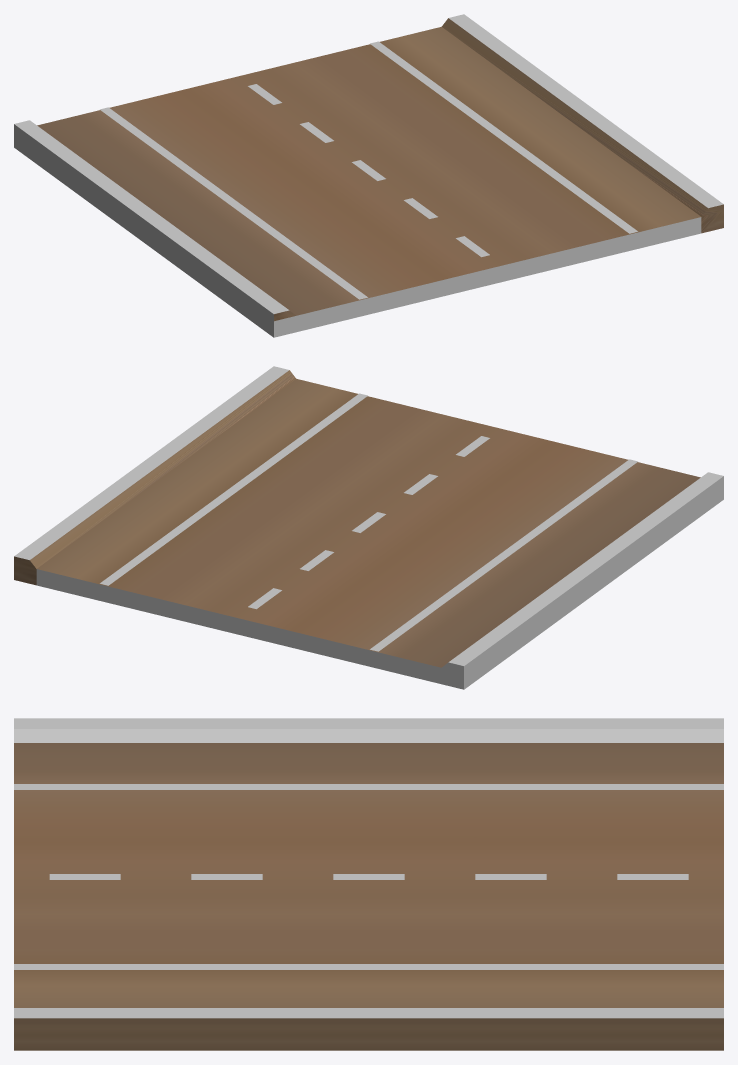
The model's file is road_straight.obj.
3 renders of one model, top to bottom at view 1: azimuth 30°, elevation 25°; view 2: azimuth 150°, elevation 25°; view 3: azimuth 270°, elevation 25°, orthographic. The views are drawn at different scales.
Visible parts, largest first — view 1: road_straight_Cube.952; view 2: road_straight_Cube.952; view 3: road_straight_Cube.952.
Part boxes in pixels (<box>): road_straight_Cube.952: <box>14,14,723,337</box>; road_straight_Cube.952: <box>14,366,723,689</box>; road_straight_Cube.952: <box>14,718,723,1050</box>.
Size of the model in its own units: 2 by 0.1 by 2.
2 materials, 1 textured.
